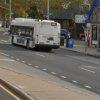Bus: (7, 13, 62, 57)
